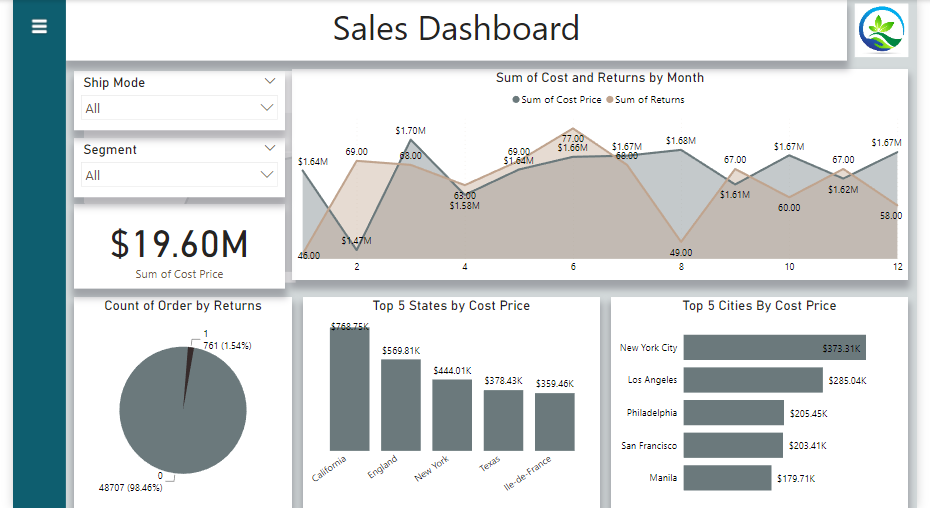

What the dashboard file says about the page in this screenshot:
{"tool":"powerbi","page":{"name":"Cost Overview","canvas":[1280,720],"ordinal":1},"visuals":[{"type":"textbox","title":"Menu BG","box":[0,0,75.1,720],"z":0,"group":"g4"},{"type":"image","box":[1182,0,97.8,86.5],"z":0,"group":"g3"},{"type":"group","id":"g1","title":"Charts","box":[86.5,97.8,1182,622.2],"z":0},{"type":"textbox","box":[75.1,0,1106.9,86.5],"z":1000,"group":"g3"},{"type":"actionButton","title":"Menu","box":[20,20,35,35],"z":1000,"group":"g4"},{"type":"slicer","title":"Segment","fields":{"Values":["Sales.Segment"]},"box":[86.5,195.6,299.1,83.6],"z":1000,"group":"g2"},{"type":"card","title":"Cost Card","fields":{"Values":["Sum(Sales.Cost Price)"]},"box":[86.5,289.1,299.1,120.5],"z":1000},{"type":"slicer","title":"Ship Mode","fields":{"Values":["Sales.Ship Mode"]},"box":[86.5,100.6,299.1,83.6],"z":1500,"group":"g2"},{"type":"group","id":"g2","title":"Filters","box":[86.5,100.6,299.1,178.6],"z":2000},{"type":"group","id":"g3","title":"Header","box":[75.1,0,1204.7,86.5],"z":3000},{"type":"clusteredBarChart","title":"Top 5 Cities By Cost Price","fields":{"Category":["Sales.City"],"Y":["Sum(Sales.Cost Price)"]},"box":[847.6,420.9,420.9,299.1],"z":4500,"group":"g1"},{"type":"columnChart","title":"Top 5 States by Cost Price","fields":{"Y":["Sum(Sales.Cost Price)"],"Category":["Sales.State"]},"box":[411.1,420.9,420.9,299.1],"z":4750,"group":"g1"},{"type":"group","id":"g4","title":"Menu Bar","box":[0,0,75.1,720],"z":5000},{"type":"pieChart","title":"Count of Order by Returns","fields":{"Category":["Sales.Returns"],"Y":["CountNonNull(Sales.Order ID)"]},"box":[86.5,420.9,309,299.1],"z":5000,"group":"g1"},{"type":"areaChart","box":[100,100,300,300],"z":5001,"group":"g1"},{"type":"areaChart","title":"Sum of Cost and Returns by Month","fields":{"Y":["Sum(Sales.Cost Price)"],"Y2":["Sum(Sales.Returns)"],"Category":["Sales.Month"]},"box":[395.5,97.8,873.1,299.1],"z":6000,"group":"g1"}]}

Visuals, with their boxes in screenshot pixels (x1, y1, x2, y2), scaled from the page's 1280x720 canvas onto the 930x510 screenshot:
"Menu BG" textbox: [0, 0, 55, 509]
image: [859, 0, 929, 61]
"Charts" group: [63, 69, 922, 509]
textbox: [55, 0, 859, 61]
"Menu" actionButton: [15, 14, 40, 39]
"Segment" slicer: [63, 139, 280, 198]
"Cost Card" card: [63, 205, 280, 290]
"Ship Mode" slicer: [63, 71, 280, 130]
"Filters" group: [63, 71, 280, 198]
"Header" group: [55, 0, 929, 61]
"Top 5 Cities By Cost Price" clusteredBarChart: [616, 298, 922, 509]
"Top 5 States by Cost Price" columnChart: [299, 298, 604, 509]
"Menu Bar" group: [0, 0, 55, 509]
"Count of Order by Returns" pieChart: [63, 298, 287, 509]
areaChart: [73, 71, 291, 283]
"Sum of Cost and Returns by Month" areaChart: [287, 69, 922, 281]
